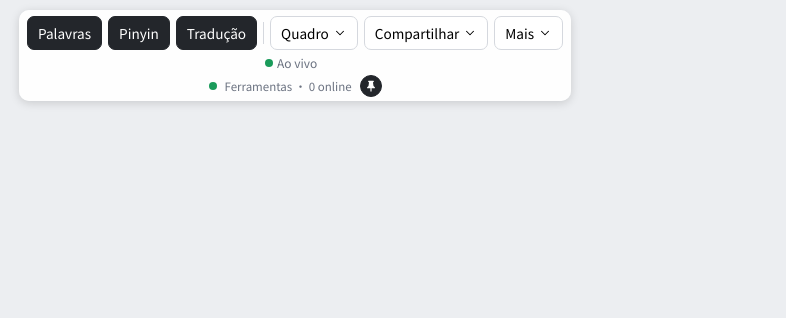
barra do topo enxuta, com menus › menu Mais: legenda e fixar frase são marcas de liga/desliga; admin ainda tem Minhas salas e Sair
This screenshot has width=786, height=318.
Later steps or results of the test are not shown.
Step 1. Click the button "Mais" → (529, 33), box [494, 16, 563, 50]
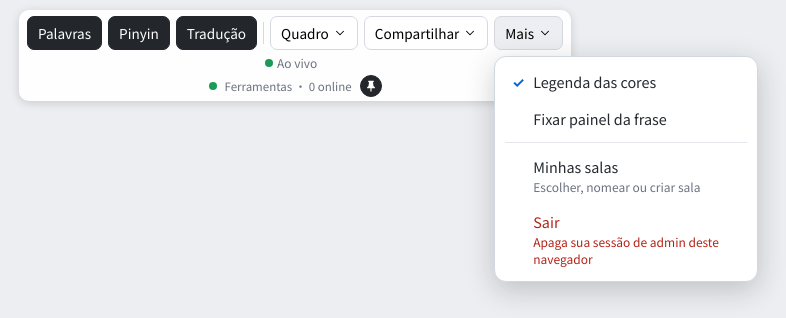
expect the text "Minhas salas" is shown: met, box [533, 156, 618, 177]
